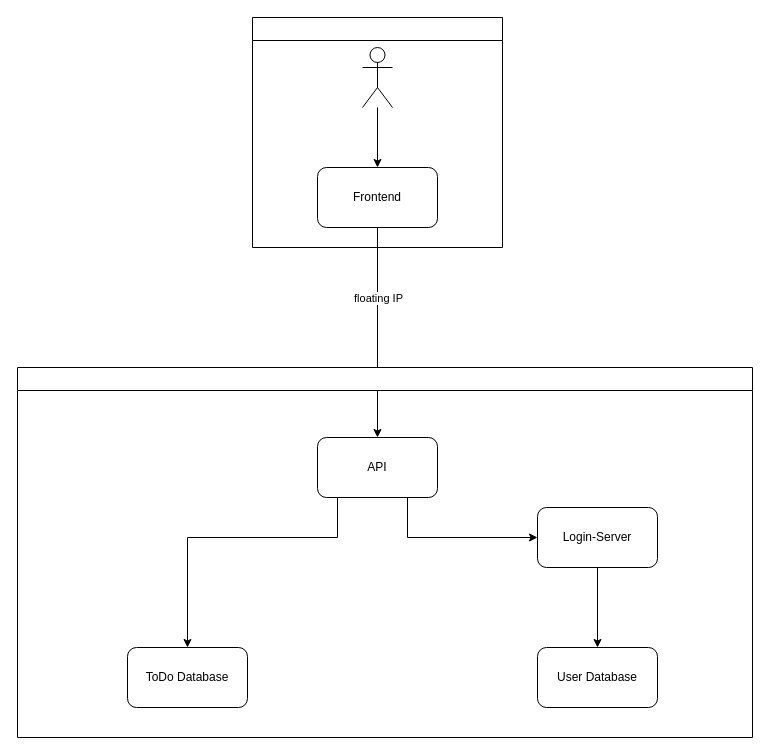
This 770x755 diagram has some shape labels left out. Here are the shapes that lost their labels. From the top down, the centre of each, then its label:
At [377,132]: "Client-PC".
At [384,552]: "Backend".
